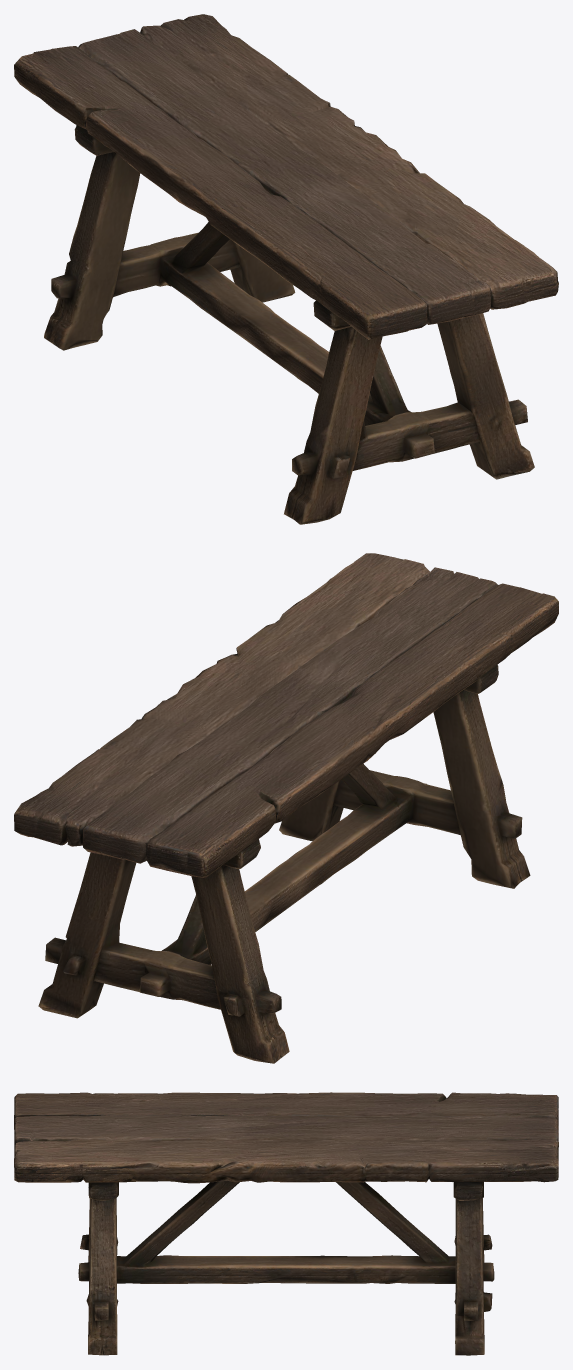
File: trestle-table.glb
3 views of the same model, one above another, from view 1: azimuth 30°, elevation 25°; view 2: azimuth 150°, elevation 25°; view 3: azimuth 270°, elevation 25° (orthographic). The views are drawn at different scales.
Visible parts, largest first — view 1: tripo_node_76d6209b-04c1-422c-9e89-5d86fcd3d28a; view 2: tripo_node_76d6209b-04c1-422c-9e89-5d86fcd3d28a; view 3: tripo_node_76d6209b-04c1-422c-9e89-5d86fcd3d28a.
Part boxes in pixels (box(x1,y1,x2,y2)): tripo_node_76d6209b-04c1-422c-9e89-5d86fcd3d28a: box(14, 14, 558, 524); tripo_node_76d6209b-04c1-422c-9e89-5d86fcd3d28a: box(14, 553, 558, 1063); tripo_node_76d6209b-04c1-422c-9e89-5d86fcd3d28a: box(14, 1092, 558, 1355).
Size of the model in its own units: 0.3798 by 0.3735 by 1.
Materials: 1 (1 with a texture image).
